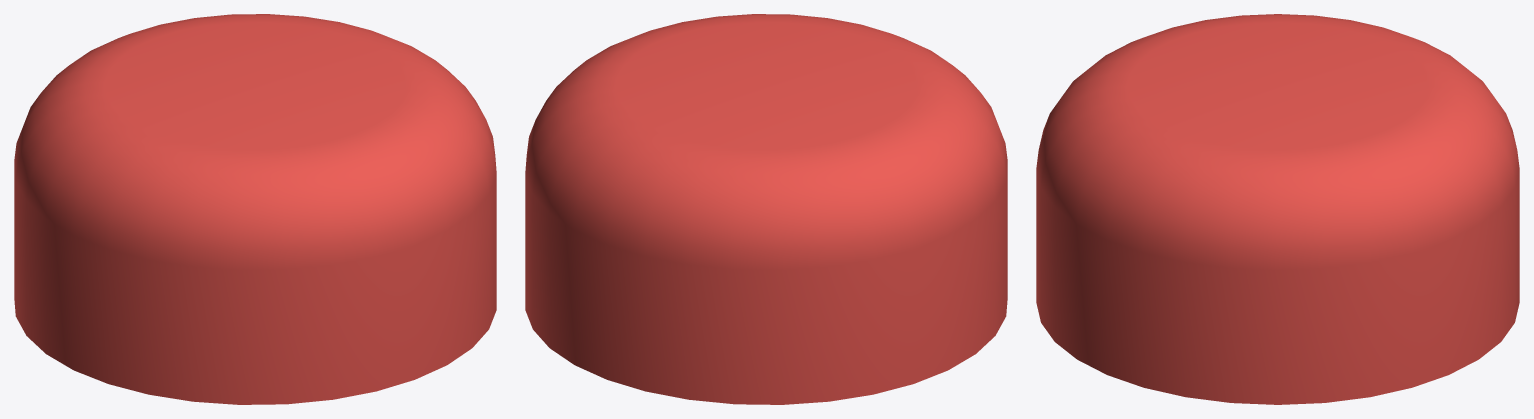
Rendered from Button_Right.gltf.
3 views of the same model, side by side, from view 1: azimuth 30°, elevation 25°; view 2: azimuth 150°, elevation 25°; view 3: azimuth 270°, elevation 25° (orthographic).
Parts seen in each view (by area): view 1: Cylinder.002; view 2: Cylinder.002; view 3: Cylinder.002.
Part boxes in pixels (x1,y1,x2,y2): Cylinder.002: [14, 14, 496, 404]; Cylinder.002: [525, 14, 1007, 404]; Cylinder.002: [1036, 14, 1519, 404].
Bounding box in the file's own units: 0.2484 × 0.1229 × 0.2484.
